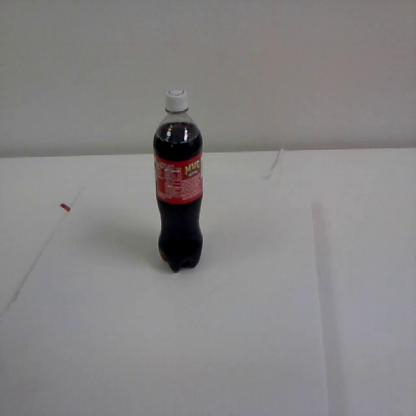bottle: (151, 85, 205, 276)
